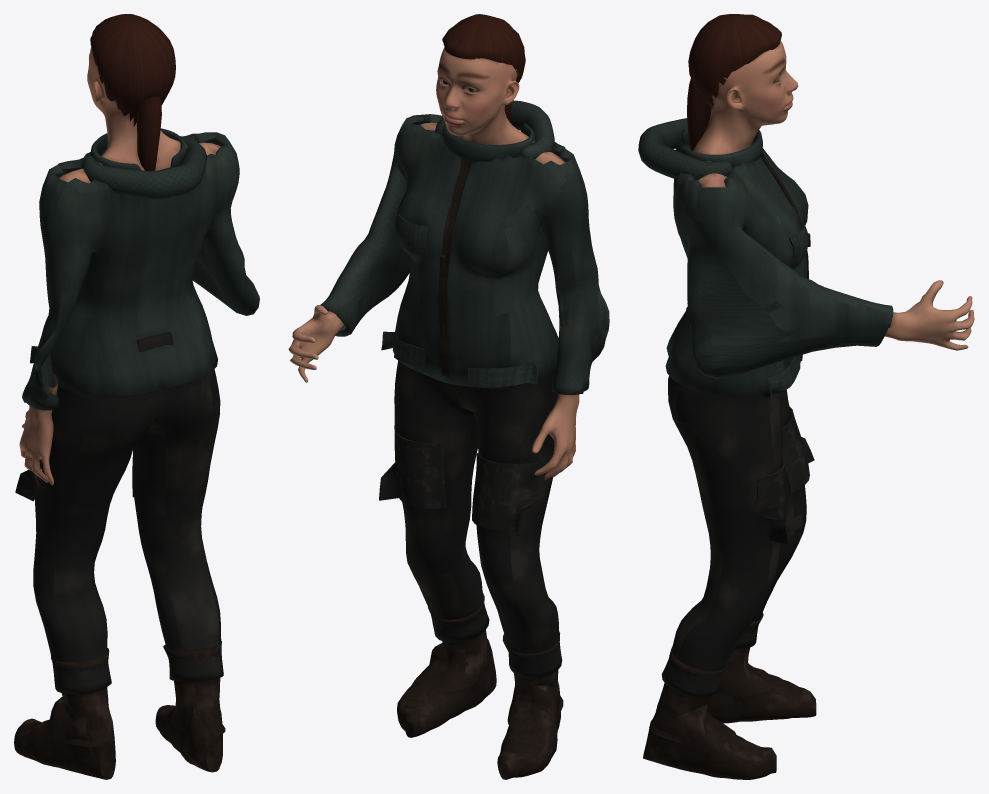
The model's file is ramen_customer.glb.
3 renders of one model, left to right at view 1: azimuth 30°, elevation 25°; view 2: azimuth 150°, elevation 25°; view 3: azimuth 270°, elevation 25°, orthographic. The views are drawn at different scales.
Visible parts, largest first — view 1: ramen_customer; view 2: ramen_customer; view 3: ramen_customer.
Part boxes in pixels (x1,y1,x2,y2): ramen_customer: (14, 14, 259, 779); ramen_customer: (288, 14, 609, 779); ramen_customer: (638, 14, 974, 779).
Size of the model in its own units: 0.5851 by 1.82 by 0.761.
5 materials, 5 textured.
